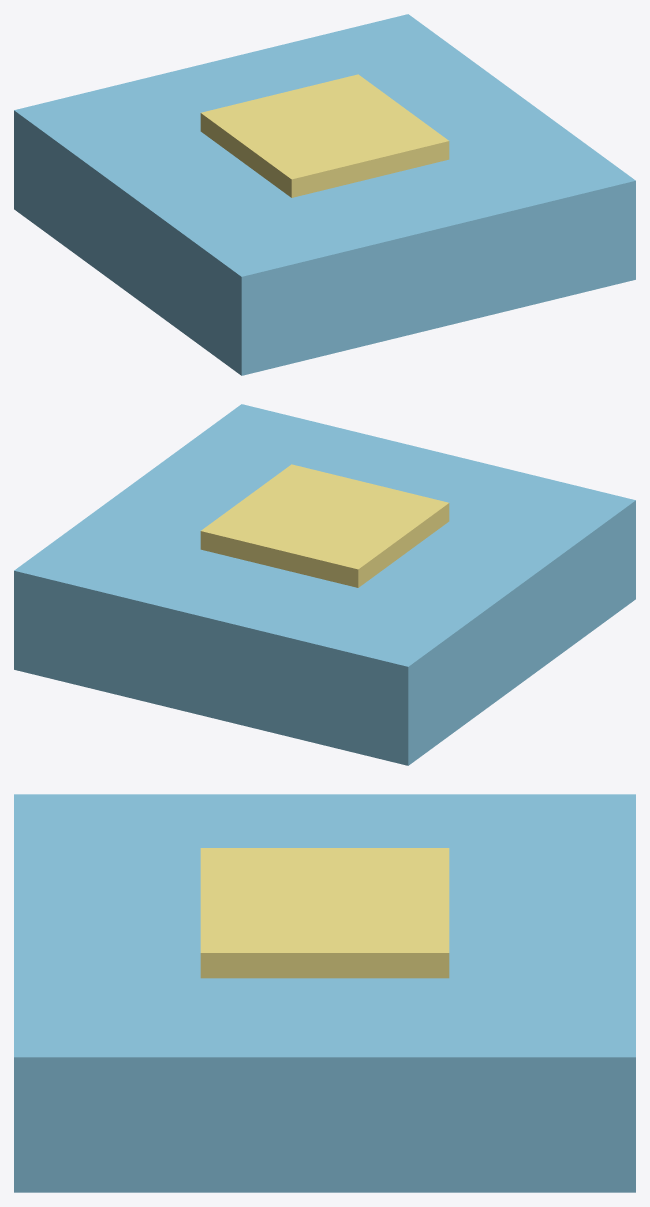
Rendered from stack-block.glb.
The picture shows the model from 3 angles, top to bottom: view 1: azimuth 30°, elevation 25°; view 2: azimuth 150°, elevation 25°; view 3: azimuth 270°, elevation 25°; orthographic projection. The views are drawn at different scales.
Visible parts, largest first — view 1: stack_block, stack_pointer_slot; view 2: stack_block, stack_pointer_slot; view 3: stack_block, stack_pointer_slot.
Boxes of the visible parts, x1,y1,x2,y2 form: stack_block: [14, 14, 635, 375]; stack_pointer_slot: [200, 74, 449, 197]; stack_block: [14, 404, 635, 765]; stack_pointer_slot: [200, 464, 449, 587]; stack_block: [14, 794, 635, 1192]; stack_pointer_slot: [200, 848, 449, 978].
Bounding box in the file's own units: 1.39 × 0.3951 × 1.39.
